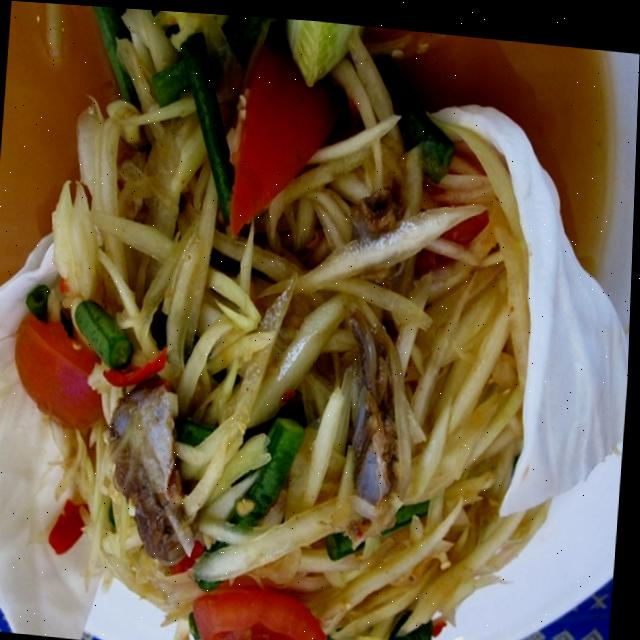蔬菜料理: (0, 0, 612, 640)
